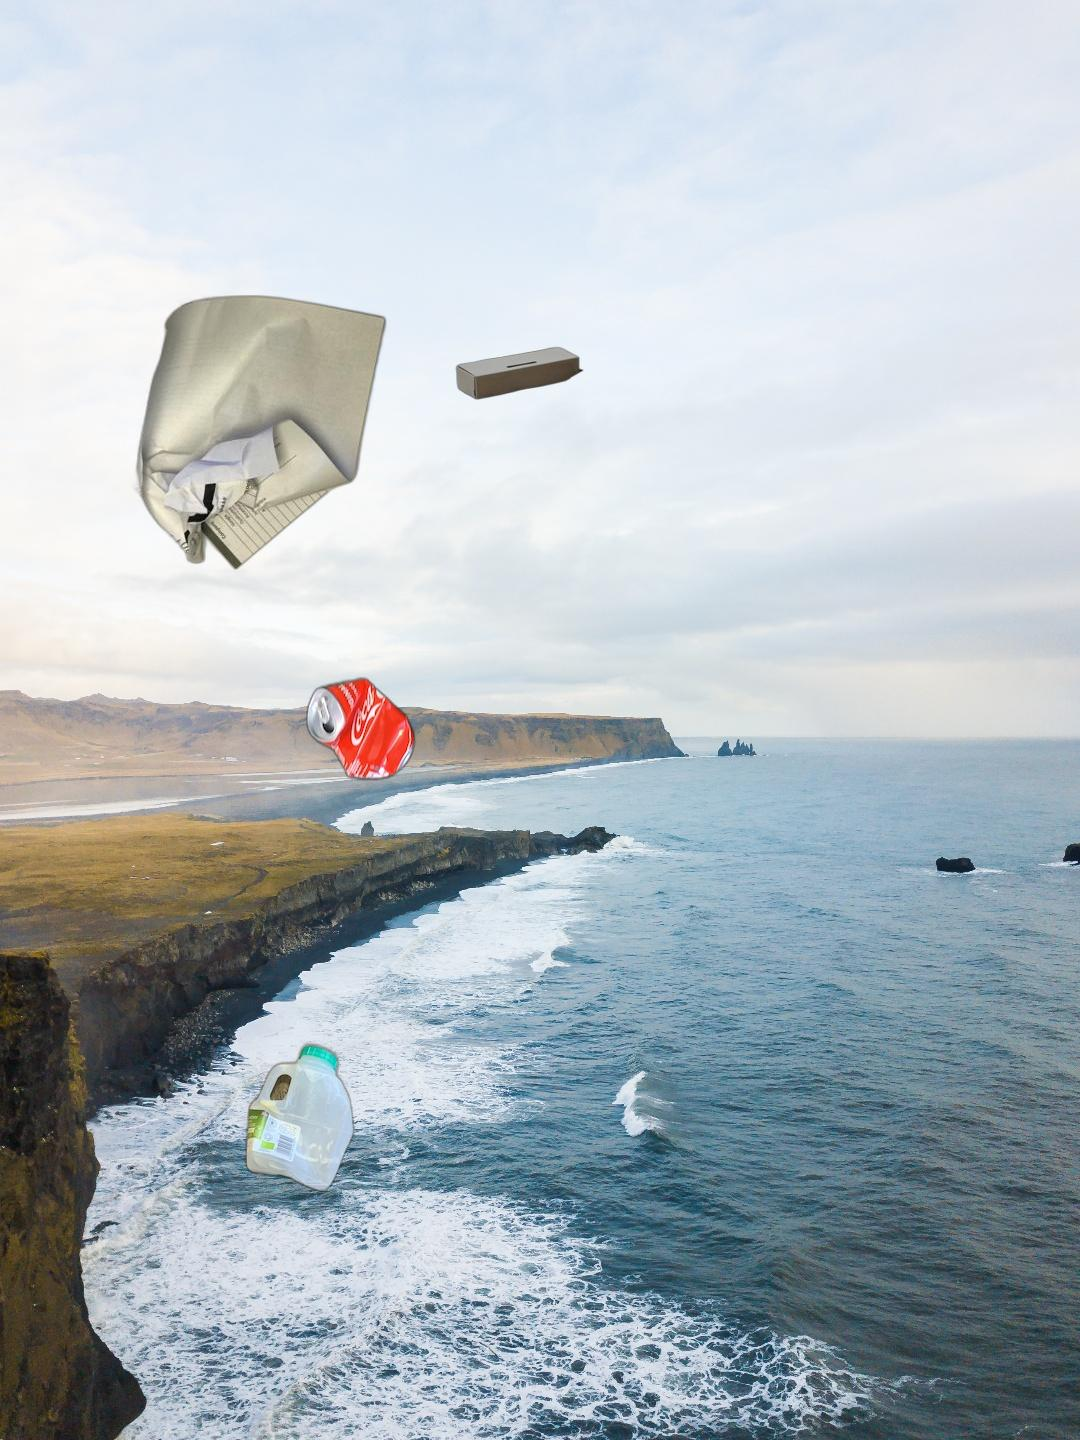metal-cans: (302, 674, 419, 785)
paper: (128, 285, 391, 573)
plastic-bottles: (241, 1037, 358, 1197)
trashbox-cardboard: (454, 345, 750, 583)
